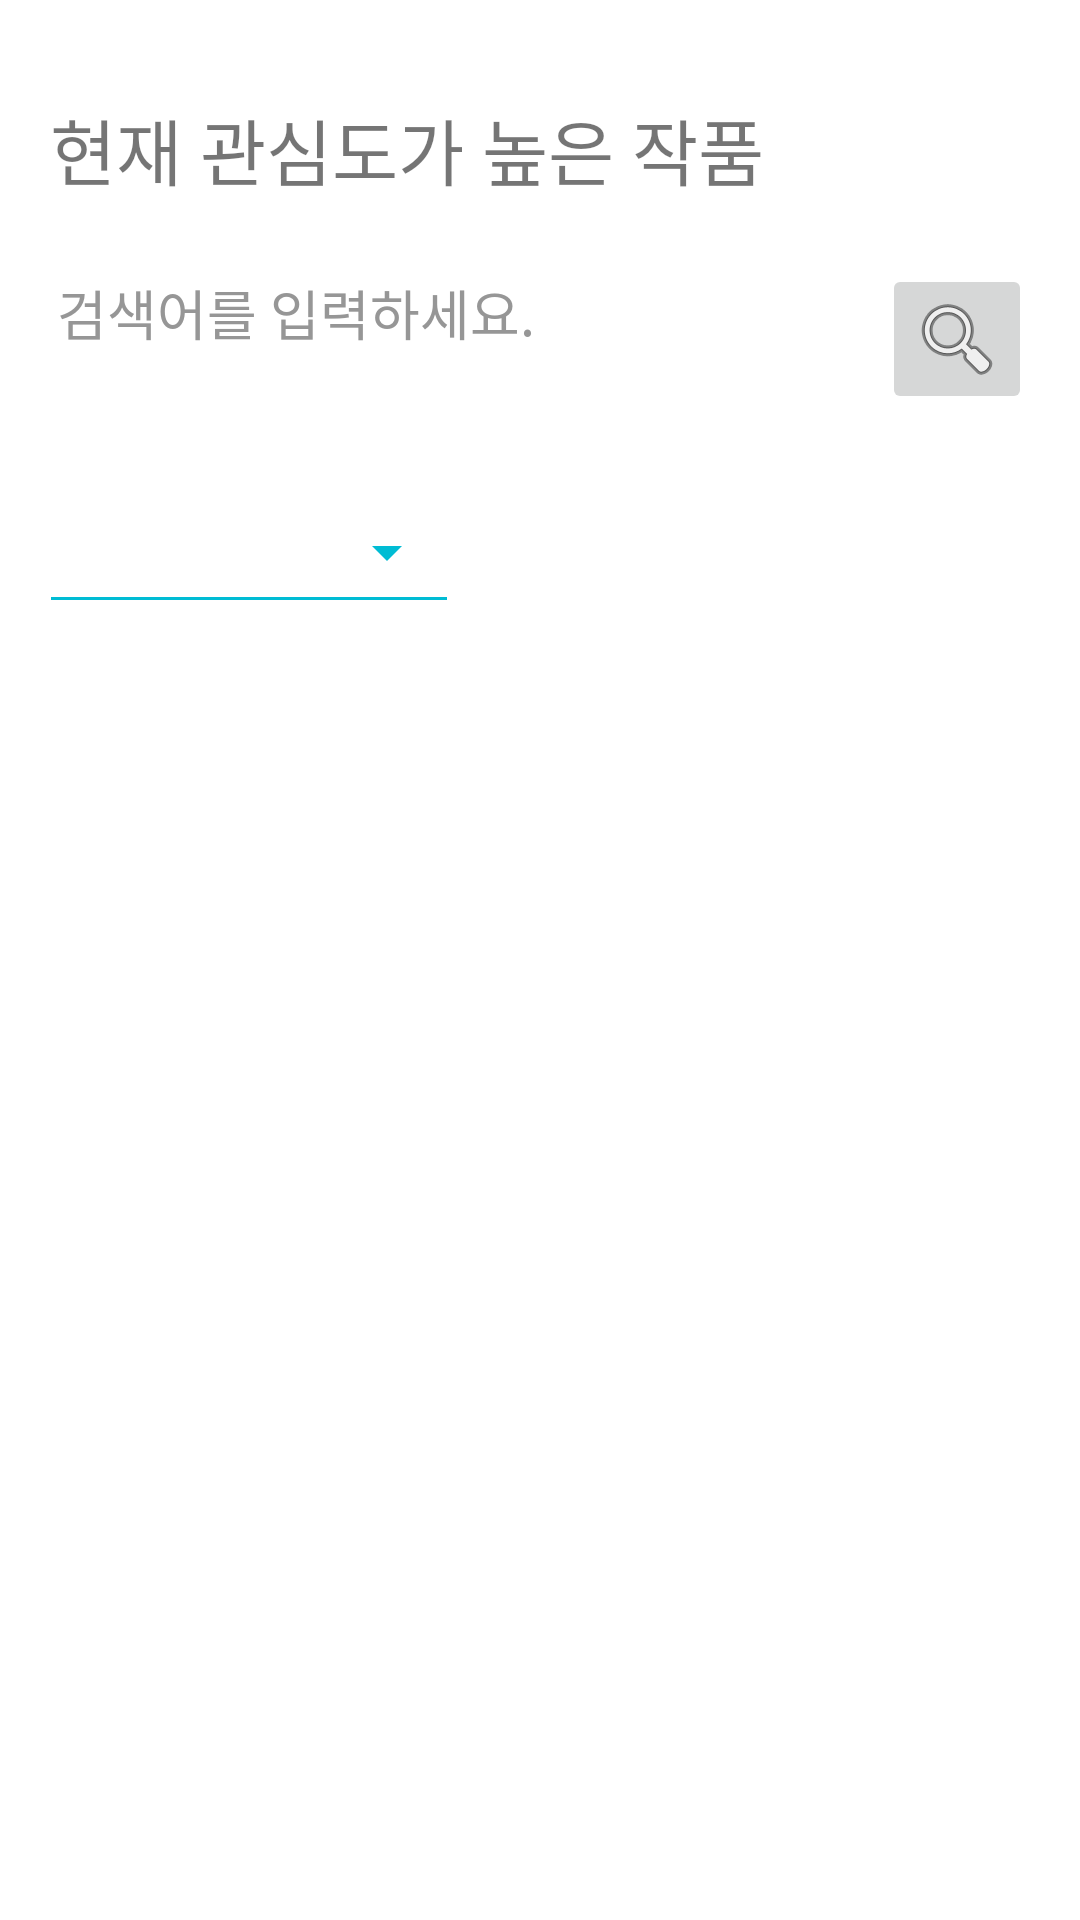

Where icons sit on this 1080*1920 app screen, as (x1, y1, x2, y2):
키워드 찾기: (894, 282, 1020, 396)
